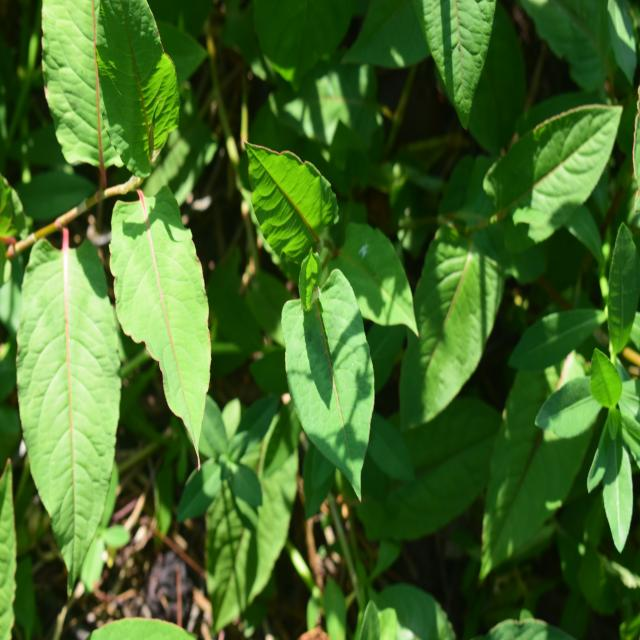Chinese_knotweed: (8, 0, 217, 561), (239, 136, 416, 495)
